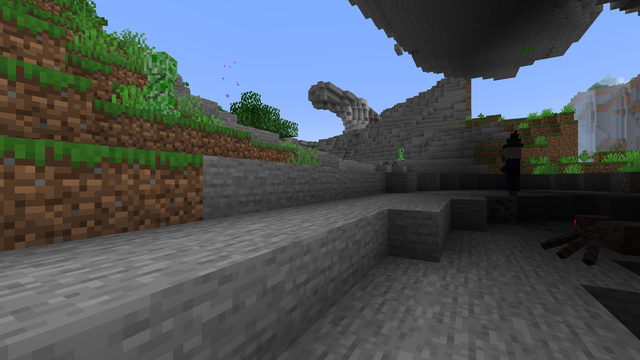araignees: (554, 209, 634, 268)
creepers: (141, 45, 180, 110), (397, 147, 402, 157)
sorcieres: (502, 144, 523, 195)
